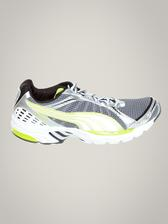shoes: (9, 76, 164, 145)
